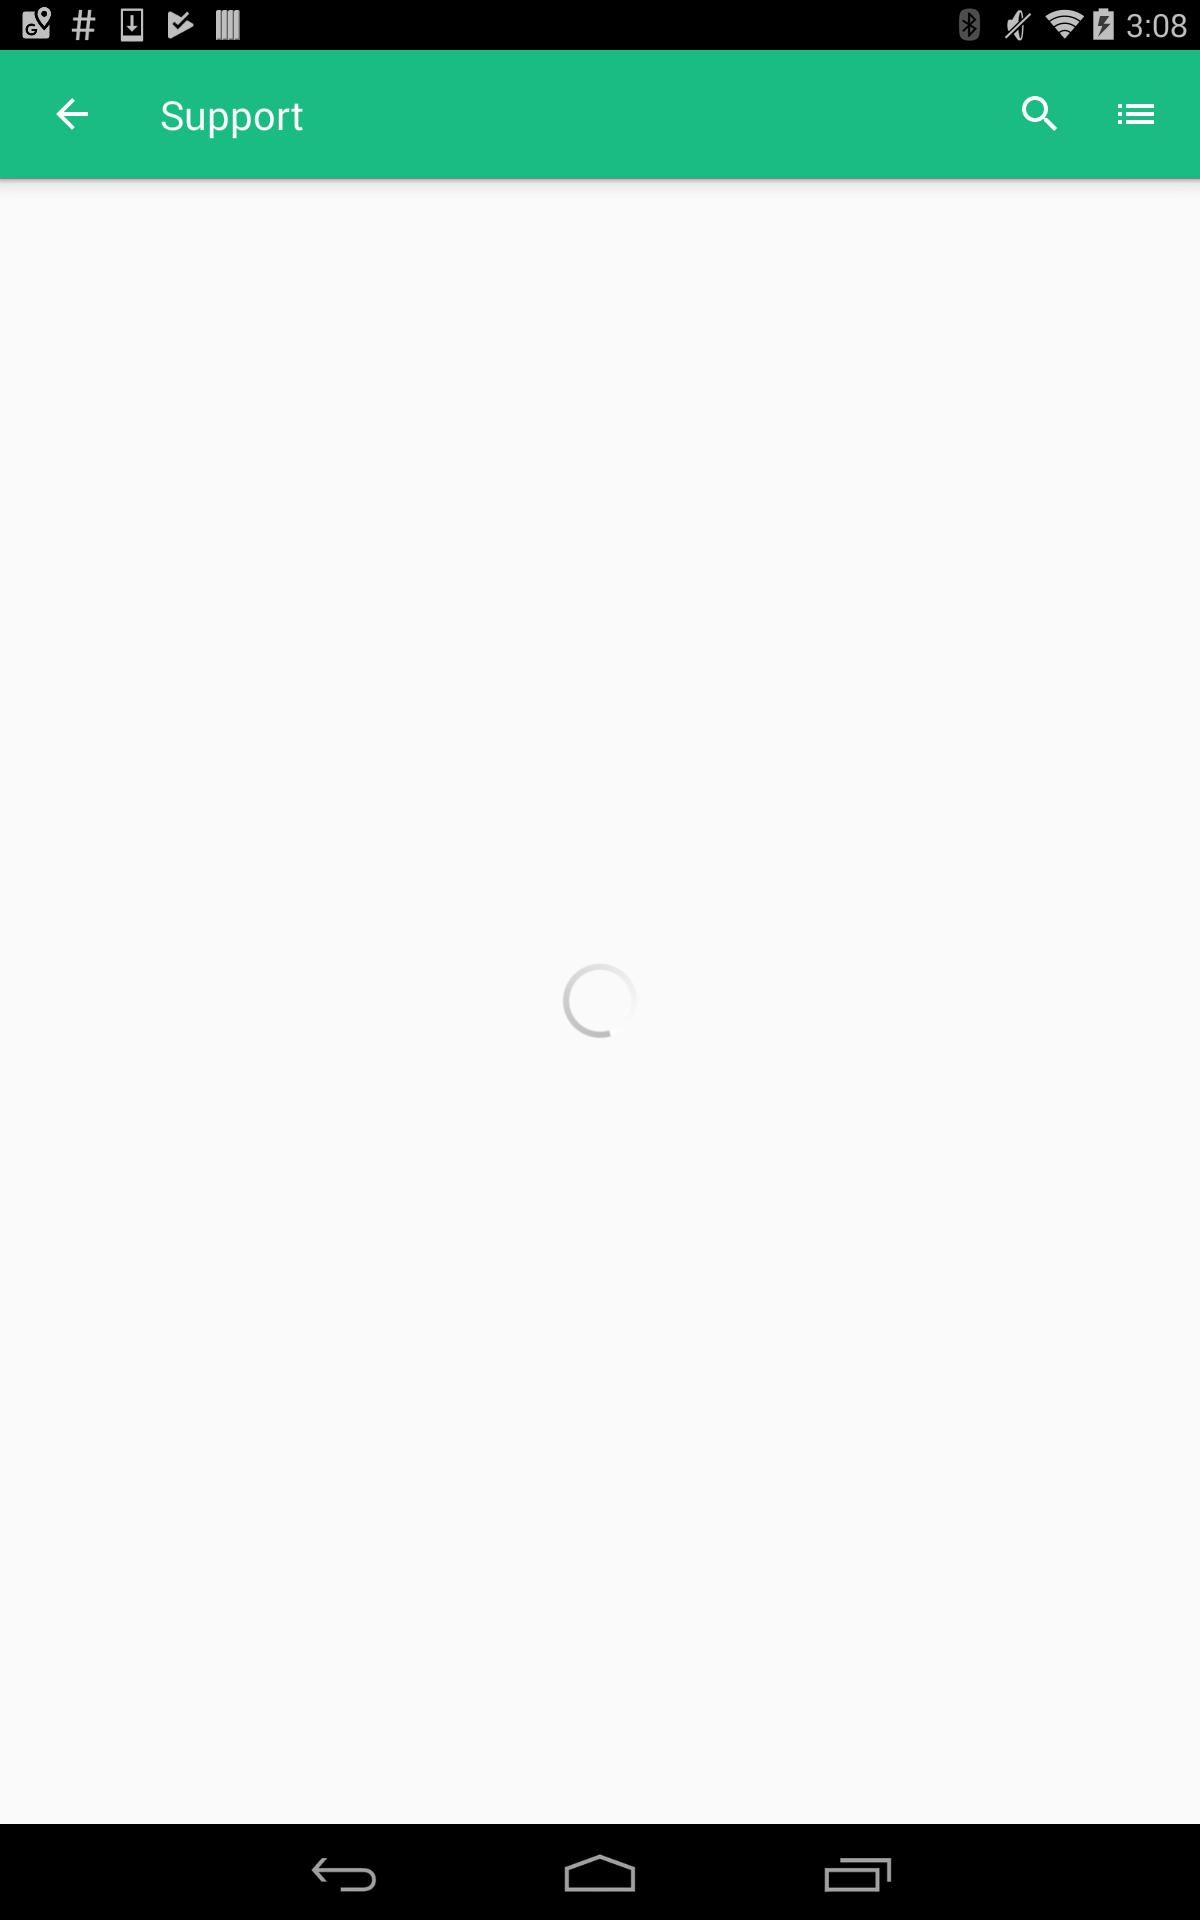android.support.v7.widget.LinearLayoutCompat: (993, 50, 1183, 178), (993, 66, 1088, 162)
android.support.v7.widget.RecyclerView: (0, 178, 1200, 1825)
android.view.View: (0, 50, 1200, 1825), (0, 178, 1200, 1825), (0, 570, 1200, 715), (0, 50, 1200, 178)
android.widget.FrameLayout: (0, 0, 1200, 1825), (0, 50, 1200, 1825), (0, 178, 1200, 1825), (0, 50, 1200, 178)
android.widget.ImageButton: (1031, 1644, 1192, 1827), (17, 50, 129, 178)
android.widget.ImageView: (993, 66, 1088, 162)
android.widget.LinearLayout: (0, 0, 1200, 1825), (993, 66, 1088, 162)
android.widget.TextView: (0, 178, 1200, 276), (0, 276, 1200, 375), (0, 471, 1200, 570), (0, 375, 1200, 471), (1088, 66, 1183, 162), (160, 87, 304, 141)
